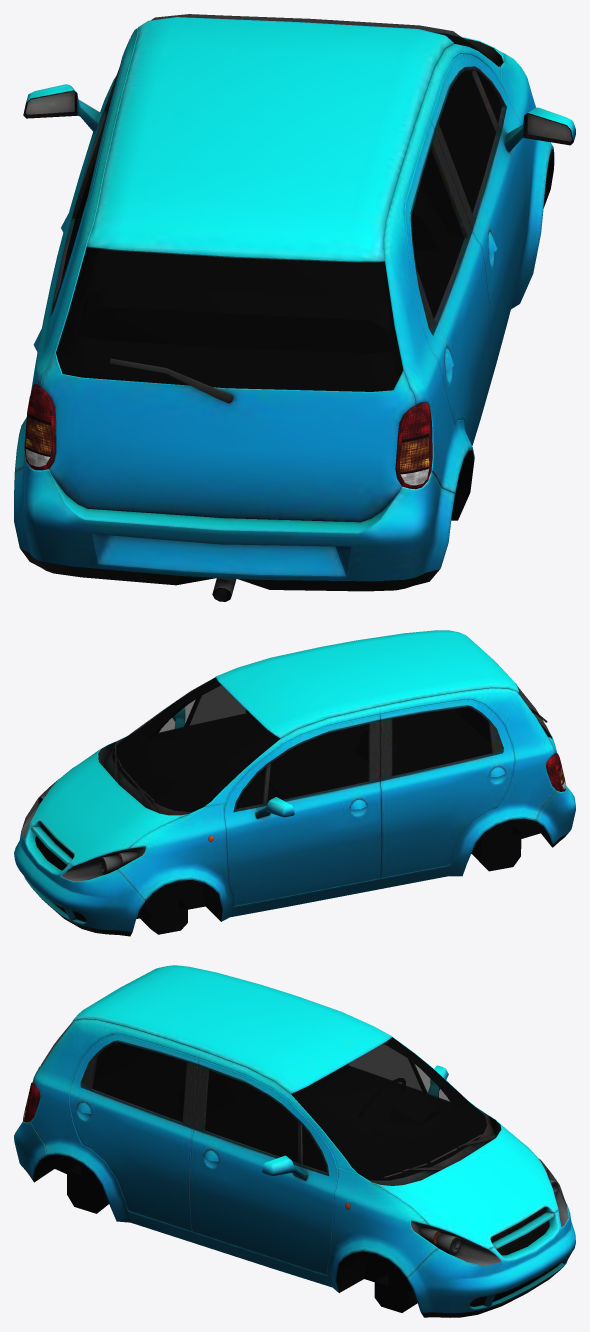
File: auto-compact.glb
3 views of the same model, one above another, from view 1: azimuth 30°, elevation 25°; view 2: azimuth 150°, elevation 25°; view 3: azimuth 270°, elevation 25° (orthographic). The views are drawn at different scales.
Visible parts, largest first — view 1: Compact Body; view 2: Compact Body; view 3: Compact Body.
Part boxes in pixels (x1,y1,x2,y2): Compact Body: (14, 14, 575, 601); Compact Body: (14, 630, 575, 936); Compact Body: (14, 965, 575, 1317).
Size of the model in its own units: 2.65 by 1.2 by 3.07.
Materials: 3 (2 with a texture image).
